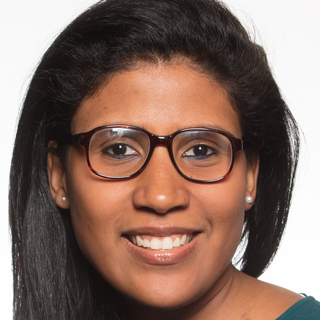eye: (99, 140, 141, 164), (184, 140, 223, 164)
